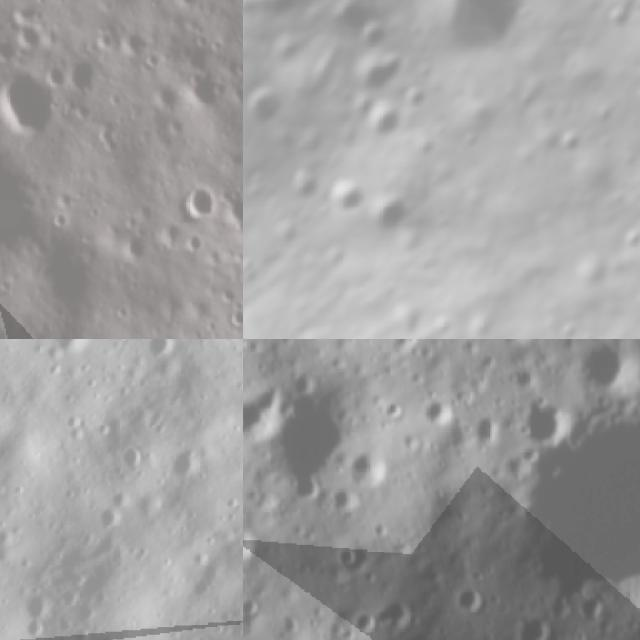crater: (509, 407, 640, 593), (403, 0, 554, 89), (268, 379, 376, 495), (325, 33, 417, 125), (0, 54, 76, 147), (307, 0, 398, 63), (356, 179, 425, 259), (243, 71, 299, 137), (316, 166, 374, 229), (156, 435, 214, 496), (577, 339, 640, 394), (514, 397, 573, 450), (243, 379, 287, 448), (282, 155, 331, 210), (172, 171, 220, 226), (8, 576, 59, 626), (133, 339, 190, 378), (104, 437, 149, 485), (40, 339, 102, 369), (550, 122, 592, 165), (243, 514, 272, 576), (419, 396, 457, 437), (85, 501, 124, 539), (97, 481, 135, 518), (357, 452, 396, 488), (512, 615, 557, 640), (471, 414, 504, 448), (573, 593, 613, 620), (223, 183, 243, 235), (18, 613, 55, 640), (243, 591, 273, 622), (392, 624, 448, 640), (495, 339, 534, 347)
